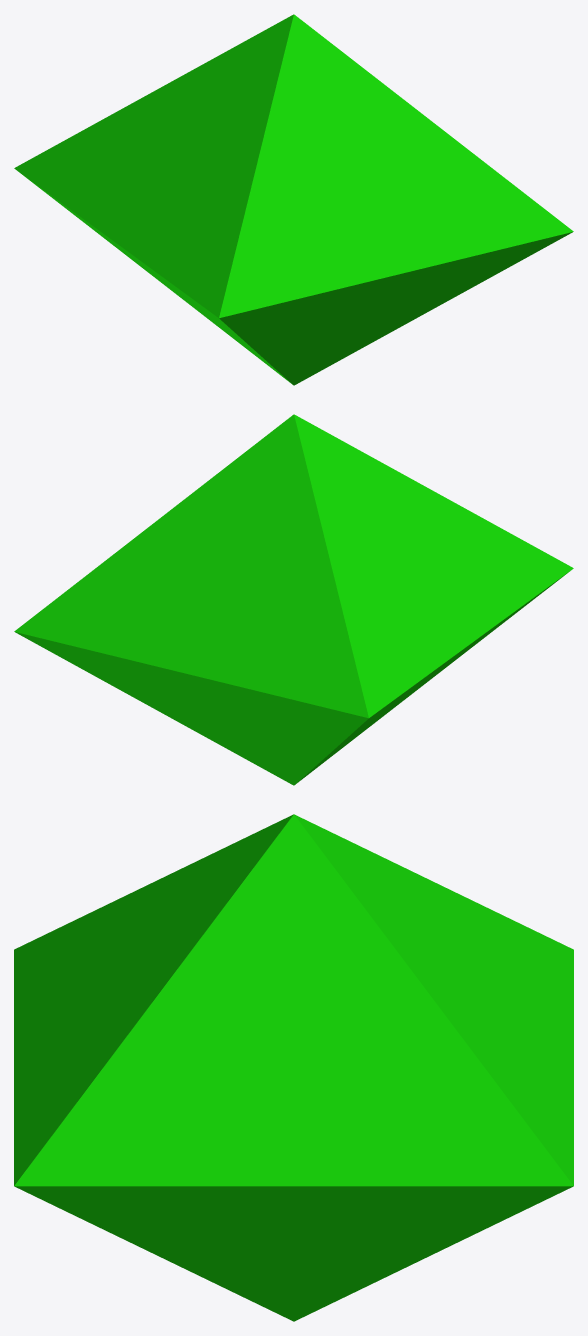
File: diamond.fbx
The picture shows the model from 3 angles, top to bottom: view 1: azimuth 30°, elevation 25°; view 2: azimuth 150°, elevation 25°; view 3: azimuth 270°, elevation 25°; orthographic projection. The views are drawn at different scales.
Parts seen in each view (by area): view 1: Cube; view 2: Cube; view 3: Cube.
Part boxes in pixels (box(x1,y1,x2,y2)): Cube: box(14, 14, 573, 385); Cube: box(14, 414, 573, 785); Cube: box(14, 814, 573, 1321).
Bounding box in the file's own units: 200 × 200 × 200.
